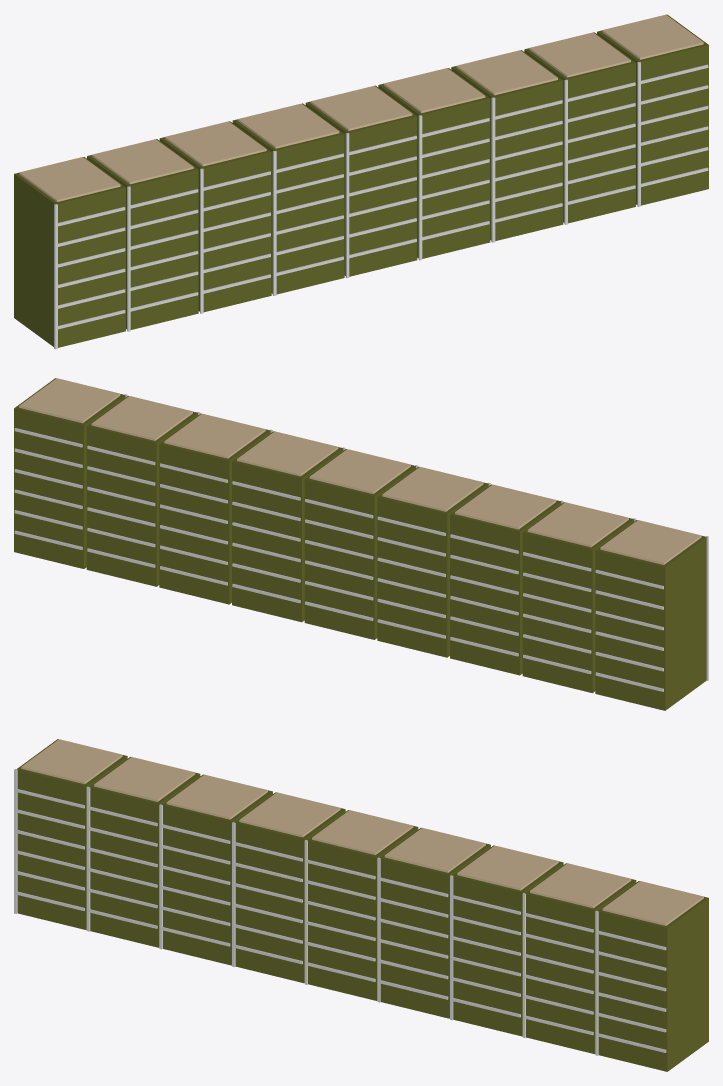
File: SM_MuroHesco_v1_Geotextil_e0_Sano_LOD0.fbx
3 views of the same model, one above another, from view 1: azimuth 30°, elevation 25°; view 2: azimuth 150°, elevation 25°; view 3: azimuth 330°, elevation 25° (orthographic).
Visible parts, largest first — view 1: SM_bloques.muro_hesco_estados_v4_LOD0; view 2: SM_bloques.muro_hesco_estados_v4_LOD0; view 3: SM_bloques.muro_hesco_estados_v4_LOD0.
Part boxes in pixels (x1,y1,x2,y2): SM_bloques.muro_hesco_estados_v4_LOD0: (14,14,708,349); SM_bloques.muro_hesco_estados_v4_LOD0: (14,378,708,710); SM_bloques.muro_hesco_estados_v4_LOD0: (14,739,708,1071).
Size of the model in its own units: 9.98 by 2.13 by 1.14.
